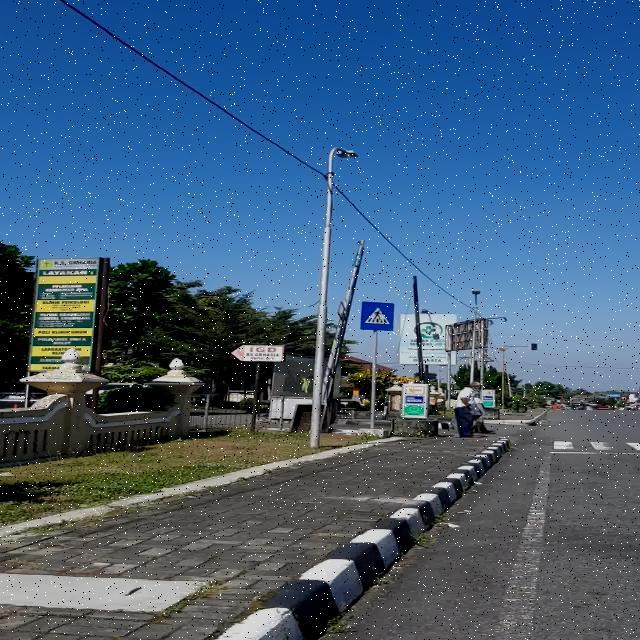Perintah Jalur Penyebrangan: (360, 301, 395, 331)
